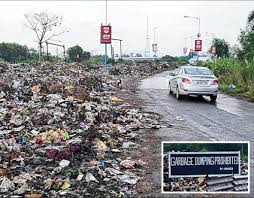garbage: (1, 65, 135, 198)
